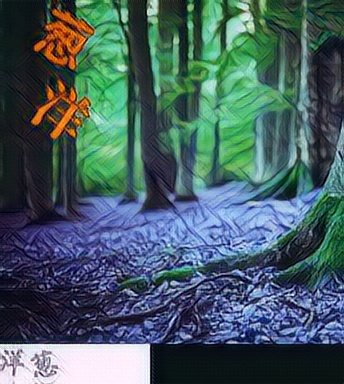B4D0: (31, 8, 96, 72)
D1F3: (31, 80, 96, 144)
